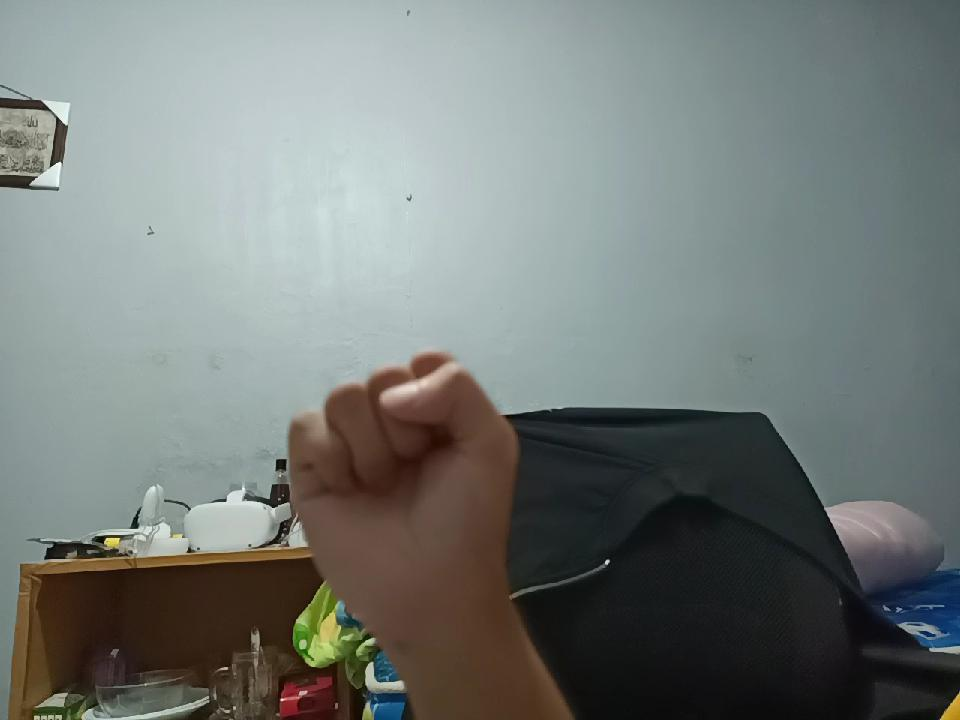rock: (298, 332, 520, 644)
